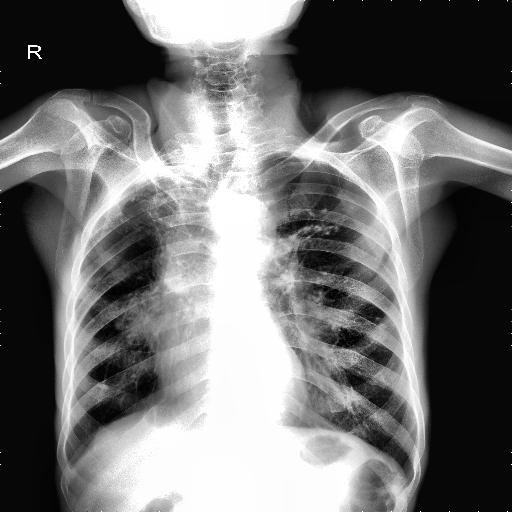0- Aortic enlargement: (208, 193, 278, 260)
1- Atelectasis: (144, 166, 214, 414), (112, 166, 200, 292), (134, 162, 208, 200)
11- Pleural thickening: (116, 165, 210, 285)
13- Pulmonary fibrosis: (284, 190, 344, 249), (114, 290, 163, 344), (269, 210, 339, 243), (292, 209, 339, 241), (302, 276, 324, 302), (337, 188, 347, 198), (374, 316, 380, 320)
2- Calcification: (98, 382, 108, 390)
7- Lung Opacity: (116, 165, 210, 285), (134, 162, 208, 200), (114, 290, 163, 344)
8- Nodule-Mass: (302, 276, 324, 302), (128, 300, 139, 314), (113, 322, 126, 330), (98, 382, 108, 390), (131, 375, 135, 378)
